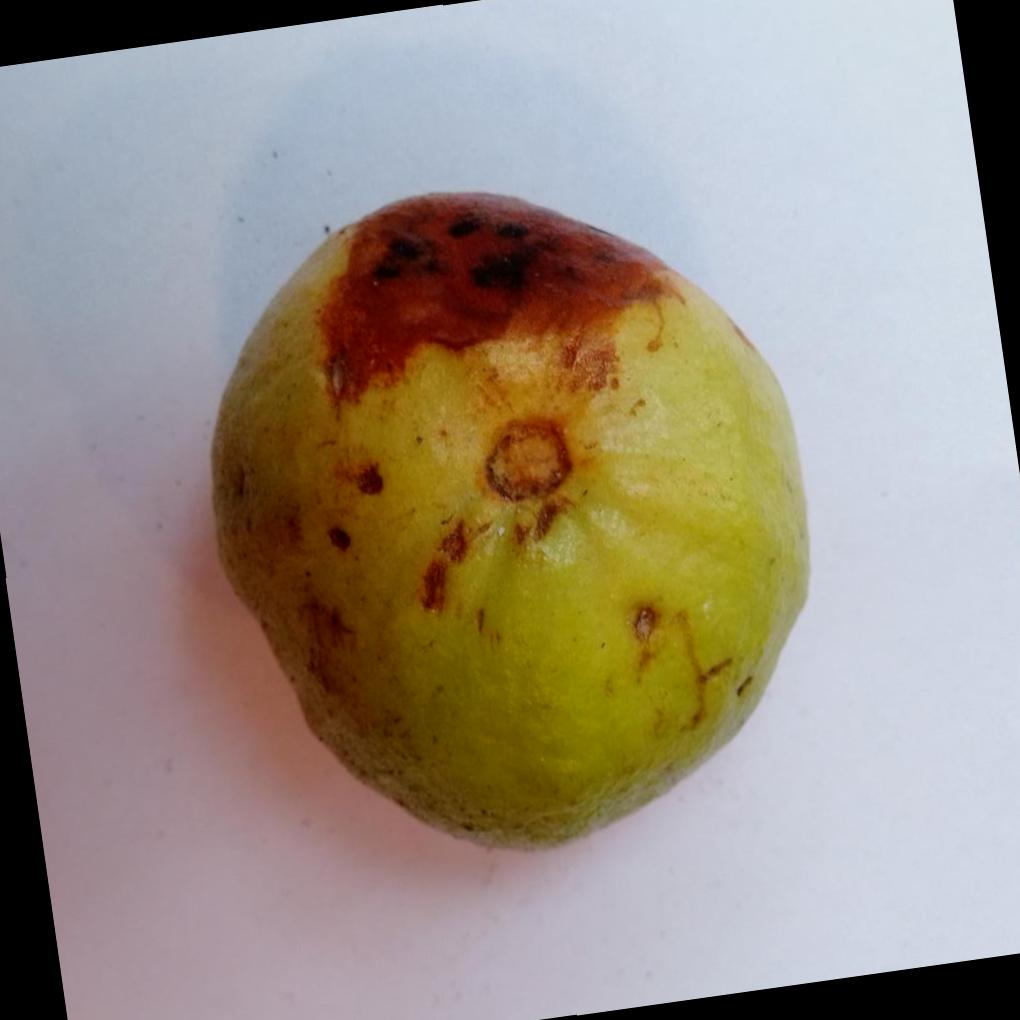FreshOrange: (205, 191, 808, 854)
